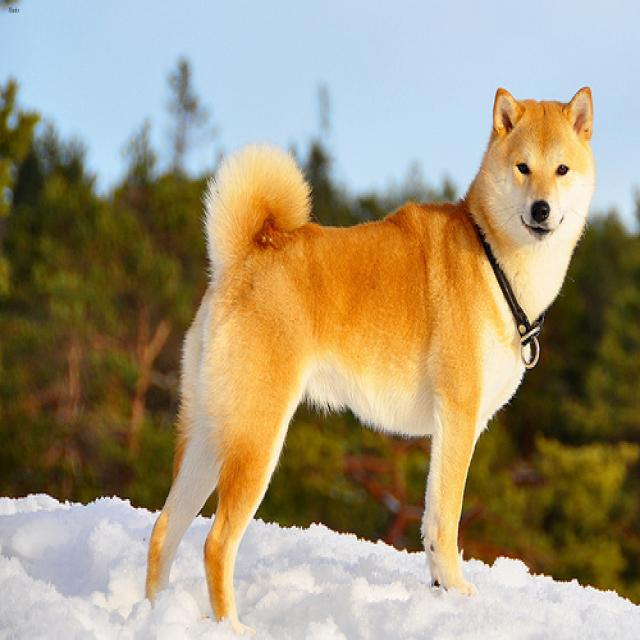dog-shiba_inu: (138, 76, 600, 636)
